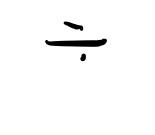div: (43, 21, 107, 62)
